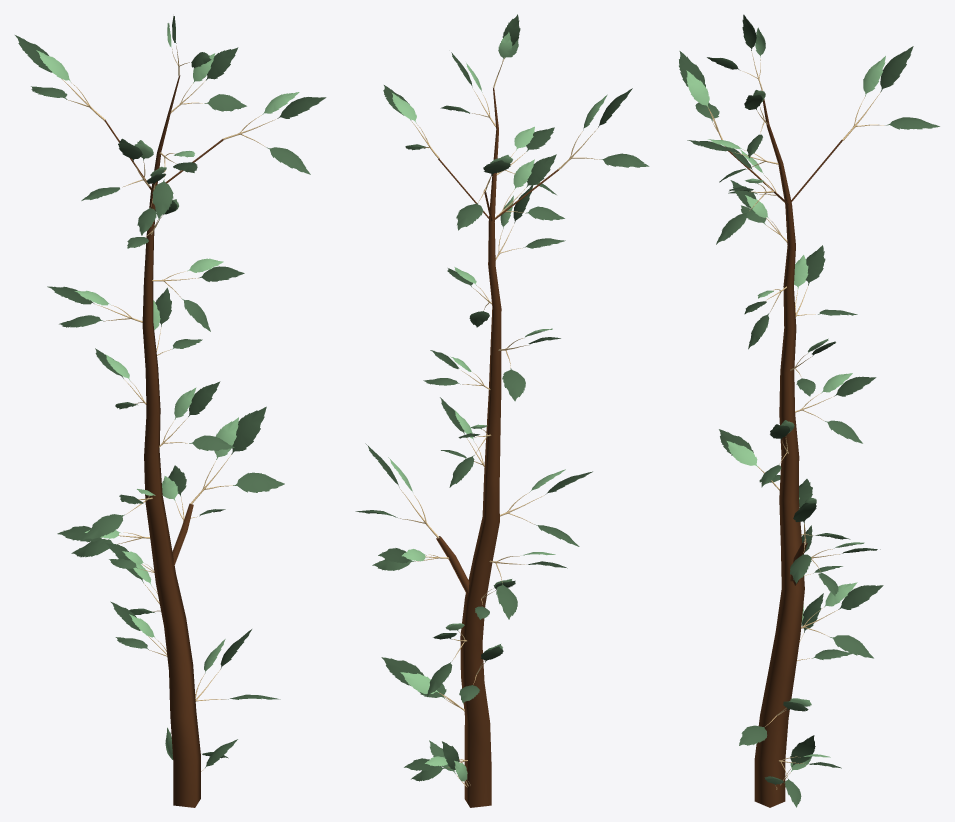
File: Tree20.fbx
The picture shows the model from 3 angles, left to right: view 1: azimuth 30°, elevation 25°; view 2: azimuth 150°, elevation 25°; view 3: azimuth 270°, elevation 25°; orthographic projection. The views are drawn at different scales.
Parts seen in each view (by area): view 1: Árbol.002, Hojas|tree|Dupli|17, Hojas|tree|Dupli|13, Hojas|tree|Dupli|18, Hojas|tree|Dupli|15, Hojas|tree|Dupli|5, Hojas|tree|Dupli|11, Hojas|tree|Dupli|, Hojas|tree|Dupli|22, Hojas|tree|Dupli|3, Hojas|tree|Dupli|14, Hojas|tree|Dupli|21 (+7 smaller); view 2: Árbol.002, Hojas|tree|Dupli|8, Hojas|tree|Dupli|21, Hojas|tree|Dupli|16, Hojas|tree|Dupli|14, Hojas|tree|Dupli|5, Hojas|tree|Dupli|4, Hojas|tree|Dupli|2, Hojas|tree|Dupli|22, Hojas|tree|Dupli|, Hojas|tree|Dupli|3, Hojas|tree|Dupli|13 (+10 smaller); view 3: Árbol.002, Hojas|tree|Dupli|5, Hojas|tree|Dupli|9, Hojas|tree|Dupli|10, Hojas|tree|Dupli|21, Hojas|tree|Dupli|, Hojas|tree|Dupli|14, Hojas|tree|Dupli|1, Hojas|tree|Dupli|17, Hojas|tree|Dupli|2, Hojas|tree|Dupli|16, Hojas|tree|Dupli|12 (+9 smaller).
Part boxes in pixels (x1,y1,x2,y2): Árbol.002: (104,75,223,807); Hojas|tree|Dupli|17: (190,406,284,504); Hojas|tree|Dupli|13: (223,92,326,174); Hojas|tree|Dupli|18: (159,381,234,450); Hojas|tree|Dupli|15: (170,47,246,113); Hojas|tree|Dupli|5: (15,35,105,120); Hojas|tree|Dupli|11: (152,258,244,331); Hojas|tree|Dupli|: (47,286,142,327); Hojas|tree|Dupli|22: (57,526,150,557); Hojas|tree|Dupli|3: (152,151,197,218); Hojas|tree|Dupli|14: (82,489,155,540); Hojas|tree|Dupli|21: (81,138,153,200); Árbol.002: (436,88,558,807); Hojas|tree|Dupli|8: (495,154,564,220); Hojas|tree|Dupli|21: (558,88,649,169); Hojas|tree|Dupli|16: (381,657,464,711); Hojas|tree|Dupli|14: (500,469,592,546); Hojas|tree|Dupli|5: (456,155,512,230); Hojas|tree|Dupli|4: (372,548,449,570); Hojas|tree|Dupli|2: (495,185,565,260); Hojas|tree|Dupli|22: (489,552,567,619); Hojas|tree|Dupli|: (498,328,560,401); Hojas|tree|Dupli|3: (496,126,556,194); Hojas|tree|Dupli|13: (383,85,439,158); Árbol.002: (728,90,842,807); Hojas|tree|Dupli|5: (842,46,939,140); Hojas|tree|Dupli|9: (801,582,883,658); Hojas|tree|Dupli|10: (795,373,876,443); Hojas|tree|Dupli|21: (679,51,725,146); Hojas|tree|Dupli|: (794,245,857,317); Hojas|tree|Dupli|14: (719,429,780,490); Hojas|tree|Dupli|1: (707,14,765,90); Hojas|tree|Dupli|17: (790,496,816,583); Hojas|tree|Dupli|2: (730,180,787,242); Hojas|tree|Dupli|16: (739,698,811,745); Hojas|tree|Dupli|12: (797,593,852,660).
Size of the model in its own units: 207 by 613 by 188.
